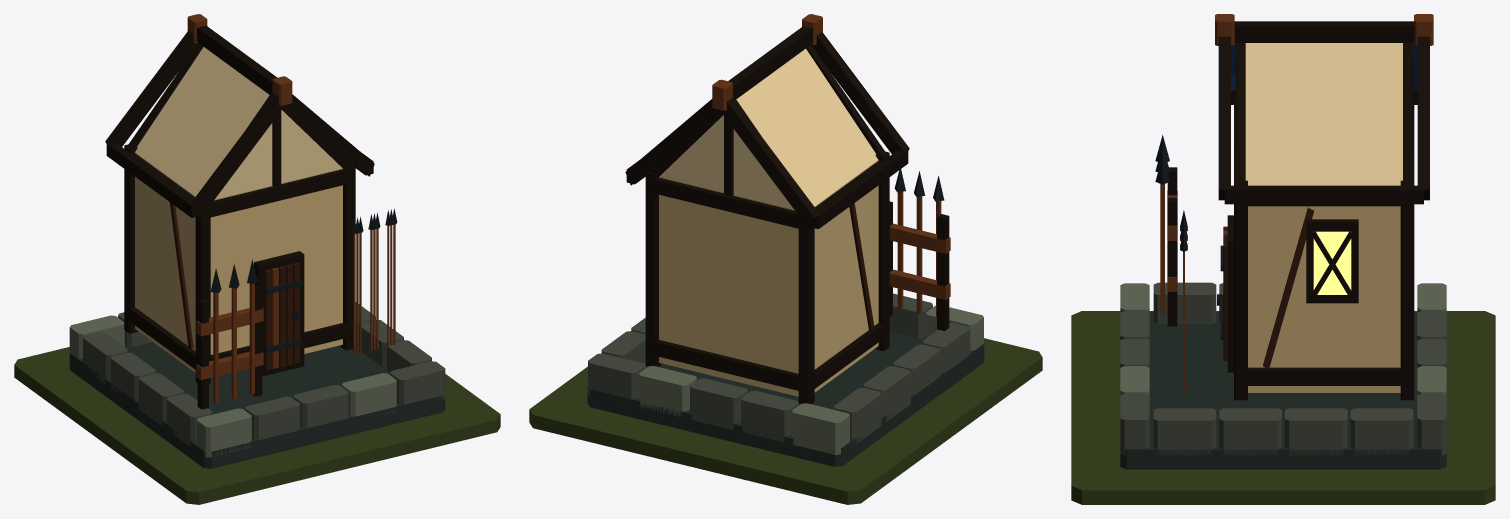
The model's file is fletcher_t2.glb.
The picture shows the model from 3 angles, left to right: view 1: azimuth 30°, elevation 25°; view 2: azimuth 150°, elevation 25°; view 3: azimuth 270°, elevation 25°; orthographic projection. The views are drawn at different scales.
Visible parts, largest first — view 1: MMR | fletcher | T02 Architecture.001, MMR | fletcher | Tier 02 Ground.001; view 2: MMR | fletcher | T02 Architecture.001, MMR | fletcher | Tier 02 Ground.001; view 3: MMR | fletcher | T02 Architecture.001, MMR | fletcher | Tier 02 Ground.001.
Boxes of the visible parts, <box> form: MMR | fletcher | T02 Architecture.001: <box>69,14,445,468</box>; MMR | fletcher | Tier 02 Ground.001: <box>14,347,500,504</box>; MMR | fletcher | T02 Architecture.001: <box>587,14,984,466</box>; MMR | fletcher | Tier 02 Ground.001: <box>529,338,1042,504</box>; MMR | fletcher | T02 Architecture.001: <box>1120,14,1446,469</box>; MMR | fletcher | Tier 02 Ground.001: <box>1071,311,1495,504</box>.
Size of the model in its own units: 1.3 by 1.34 by 1.3.
2 materials, 1 textured.
